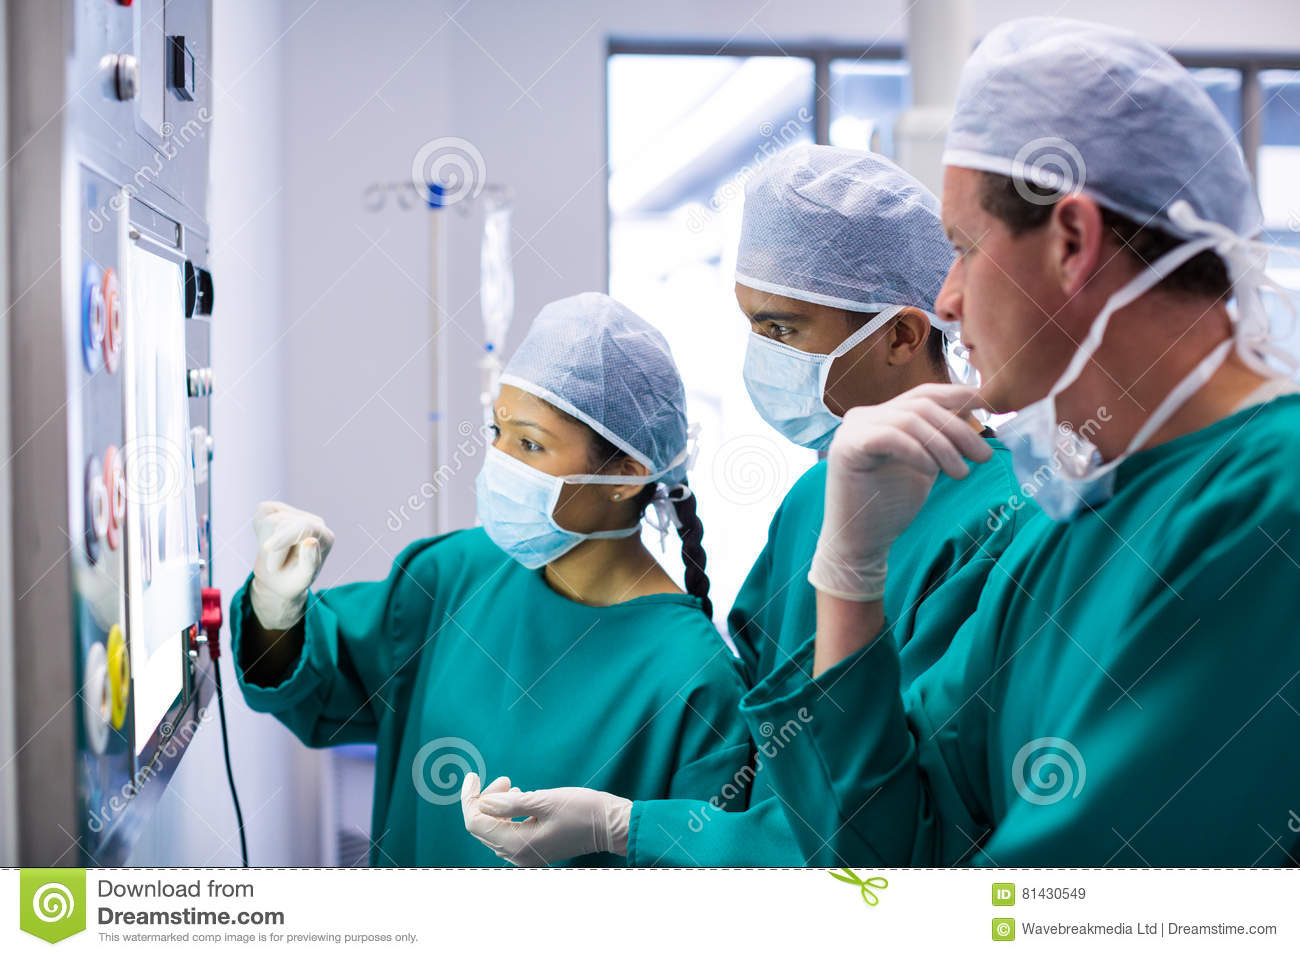mask: (714, 335, 870, 454), (463, 452, 600, 584)
